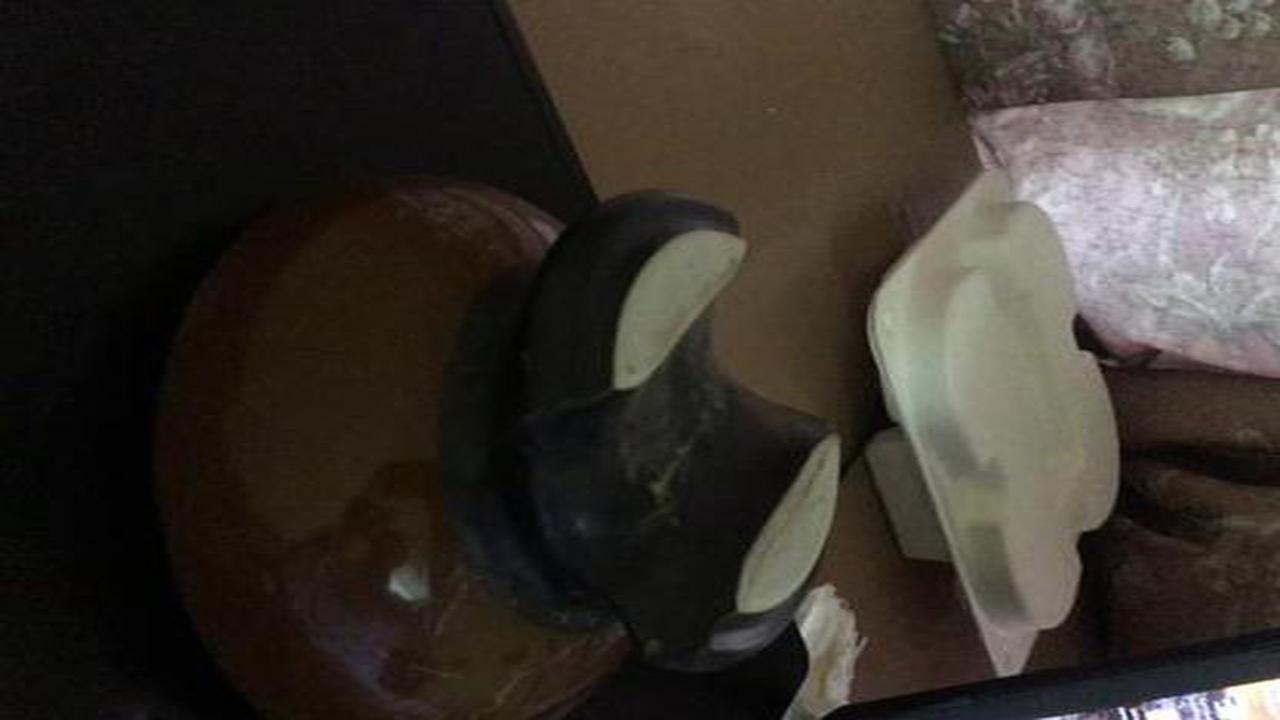insulator_pin: (117, 163, 862, 708)
